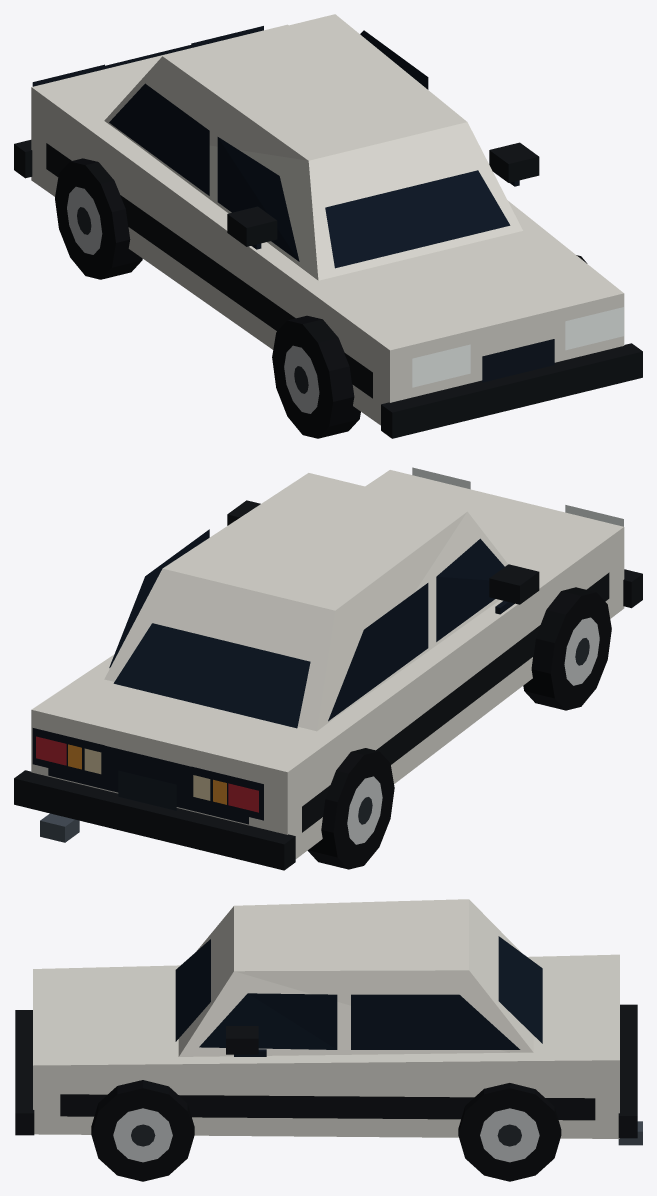
Rendered from project-shirokage-low-poly.obj.
3 views of the same model, one above another, from view 1: azimuth 30°, elevation 25°; view 2: azimuth 150°, elevation 25°; view 3: azimuth 270°, elevation 25° (orthographic). The views are drawn at different scales.
Parts seen in each view (by area): view 1: body-shell, cabin-shell, front-windshield, front-bumper, rear-side-window--1, lower-black-accent--1, front-side-window--1, rear-wheel--1-cap-a, front-wheel--1-cap-a, front-wheel--1-tread, rear-wheel--1-tread, front-grille (+9 smaller); view 2: body-shell, cabin-shell, rear-window, rear-bumper, rear-side-window--1, lower-black-accent--1, front-side-window--1, rear-trim, rear-wheel--1-cap-a, front-wheel--1-cap-a, front-wheel--1-tread, rear-wheel--1-tread (+11 smaller); view 3: body-shell, cabin-shell, lower-black-accent-1, rear-side-window-1, front-side-window-1, front-wheel-1-cap-b, rear-wheel-1-cap-b, rear-window, rear-bumper, front-windshield, front-bumper, rear-wheel-1-hub (+6 smaller).
Boxes of the visible parts, <box> form: body-shell: <box>31,24,624,425</box>; cabin-shell: <box>104,14,522,280</box>; front-windshield: <box>325,170,510,268</box>; front-bumper: <box>381,343,642,438</box>; rear-side-window--1: <box>109,83,209,195</box>; lower-black-accent--1: <box>46,143,372,398</box>; front-side-window--1: <box>217,137,299,261</box>; rear-wheel--1-cap-a: <box>55,161,115,279</box>; front-wheel--1-cap-a: <box>272,320,332,438</box>; front-wheel--1-tread: <box>287,315,360,438</box>; rear-wheel--1-tread: <box>70,158,142,279</box>; front-grille: <box>482,339,554,382</box>; body-shell: <box>31,470,624,858</box>; cabin-shell: <box>104,473,508,731</box>; rear-window: <box>113,623,310,728</box>; rear-bumper: <box>14,770,295,870</box>; rear-side-window--1: <box>328,583,428,721</box>; lower-black-accent--1: <box>302,572,609,832</box>; front-side-window--1: <box>436,538,504,641</box>; rear-trim: <box>48,745,248,824</box>; rear-wheel--1-cap-a: <box>333,751,394,869</box>; front-wheel--1-cap-a: <box>550,592,611,710</box>; front-wheel--1-tread: <box>523,587,595,710</box>; rear-wheel--1-tread: <box>307,748,378,869</box>; body-shell: <box>33,954,619,1138</box>; cabin-shell: <box>178,899,533,1056</box>; lower-black-accent-1: <box>60,1094,595,1120</box>; rear-side-window-1: <box>351,994,520,1049</box>; front-side-window-1: <box>199,993,337,1049</box>; front-wheel-1-cap-b: <box>91,1088,194,1181</box>; rear-wheel-1-cap-b: <box>458,1088,561,1181</box>; rear-window: <box>498,936,542,1043</box>; rear-bumper: <box>618,1004,637,1138</box>; front-windshield: <box>175,939,210,1041</box>; front-bumper: <box>15,1010,34,1135</box>; rear-wheel-1-hub: <box>480,1108,539,1162</box>.
Size of the model in its own units: 2.1 by 1.54 by 4.63.
